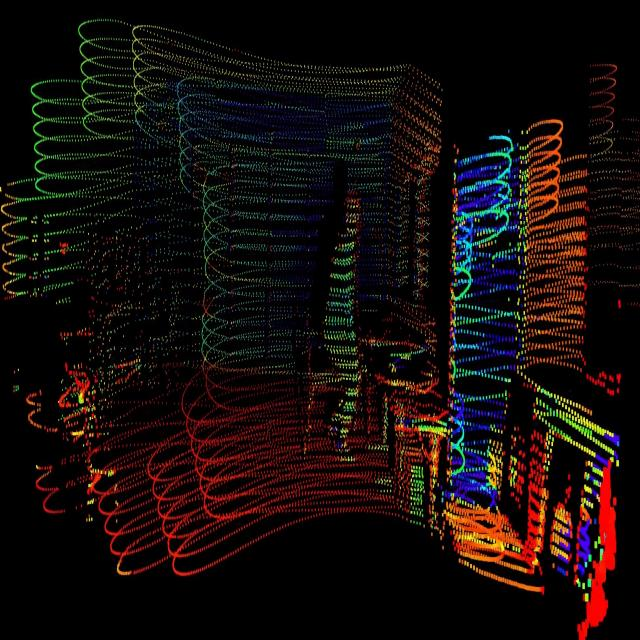human: (320, 181, 365, 470)
